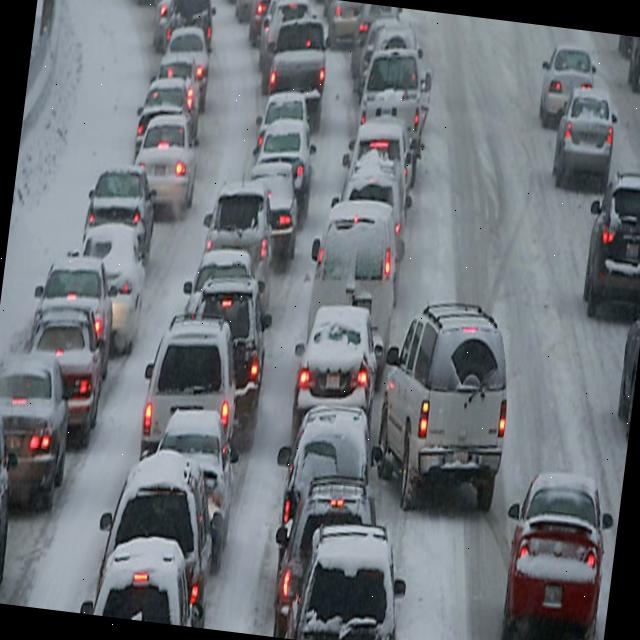car: (0, 0, 606, 577), (367, 289, 523, 516), (86, 447, 224, 625), (497, 464, 616, 640), (134, 312, 242, 468), (302, 202, 408, 356), (290, 504, 409, 640), (179, 277, 272, 439), (15, 306, 110, 449), (291, 300, 385, 441), (282, 402, 376, 534), (0, 351, 74, 516), (70, 223, 150, 350), (577, 163, 640, 324), (29, 254, 119, 366), (354, 46, 434, 168), (146, 406, 236, 514), (78, 160, 160, 266), (332, 158, 416, 259), (550, 84, 621, 195), (200, 180, 277, 278), (339, 120, 419, 214), (129, 122, 199, 220), (266, 12, 332, 110), (238, 160, 304, 256), (252, 120, 317, 214), (535, 42, 600, 131), (185, 245, 258, 322), (354, 14, 421, 94), (158, 29, 214, 104), (150, 54, 207, 116), (614, 304, 640, 432), (133, 106, 190, 160), (254, 86, 312, 138), (142, 76, 196, 120)
